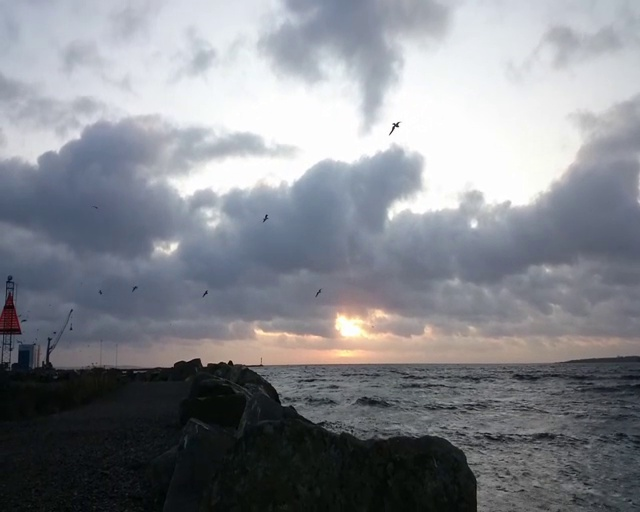BIRD: (388, 122, 400, 135)
